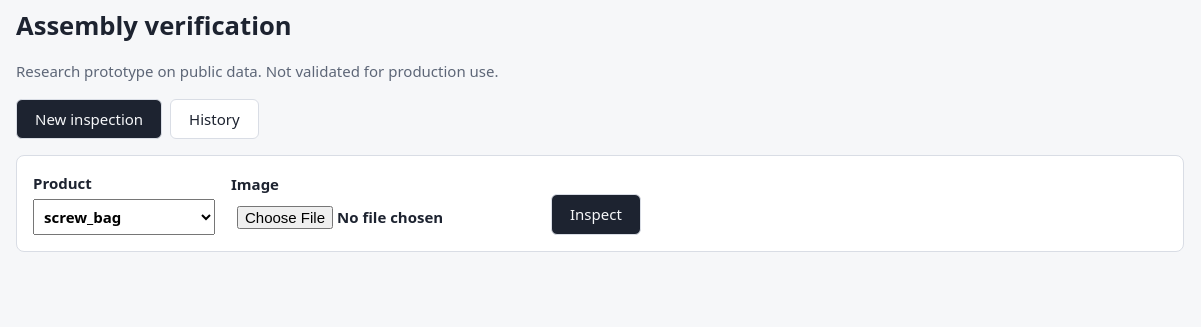
App › shows the API's error message and code, and no stale result
Earlier steps of the test are not shown.
Step 1. Click the button "Inspect" → [596, 215], box [551,194,641,235]
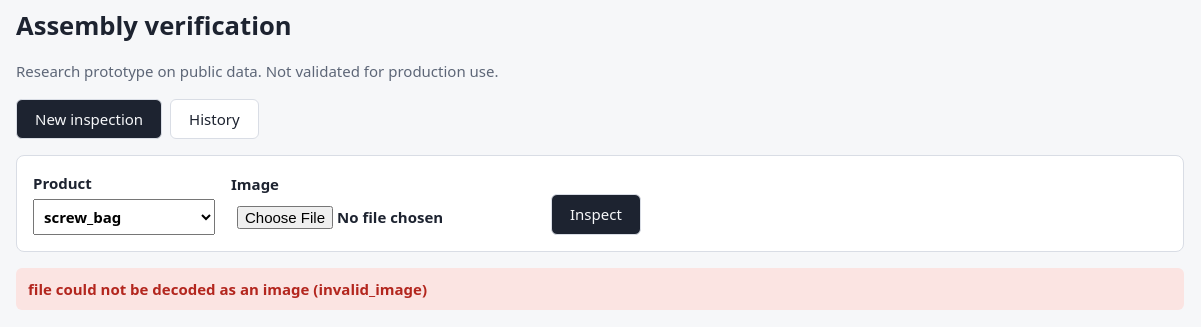
Expected: the message reads "file could not be decoded as an image (invalid_image)", [28,279,427,299]
